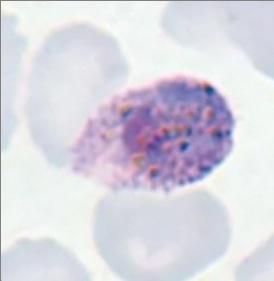Infected: (67, 74, 238, 192)
Uninfected: (25, 23, 129, 170), (91, 187, 232, 281)
